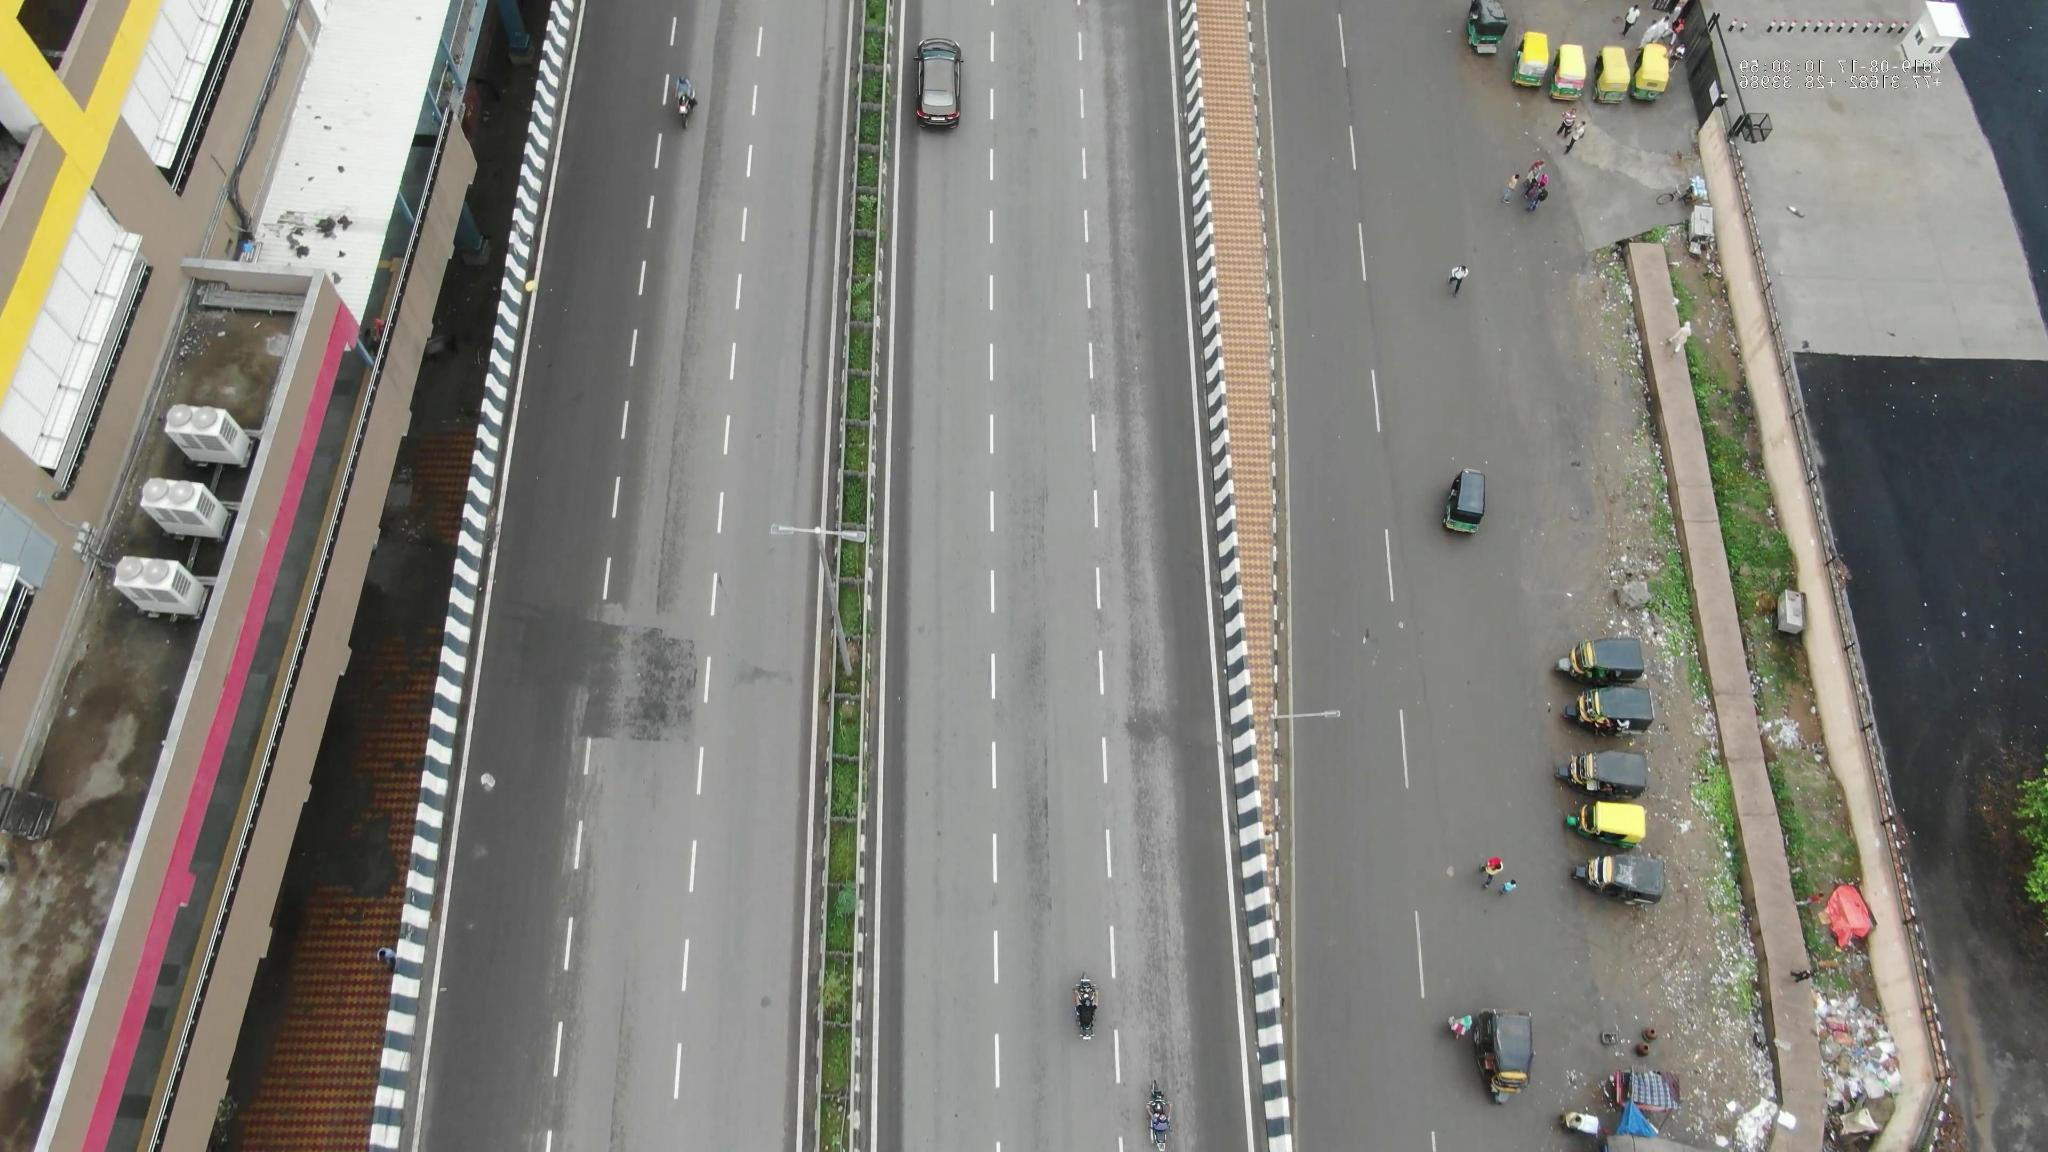Ravelling: (630, 589, 693, 745)
Road_side_garbage: (1694, 956, 1927, 1100)
